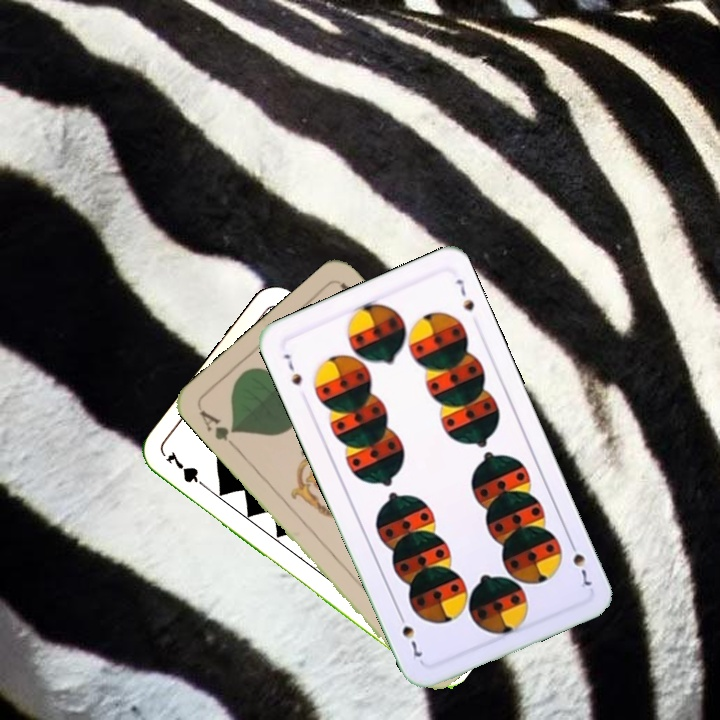G7: (161, 448, 212, 494)
GA: (194, 405, 241, 453)
S7: (565, 535, 595, 590), (279, 349, 305, 388)
